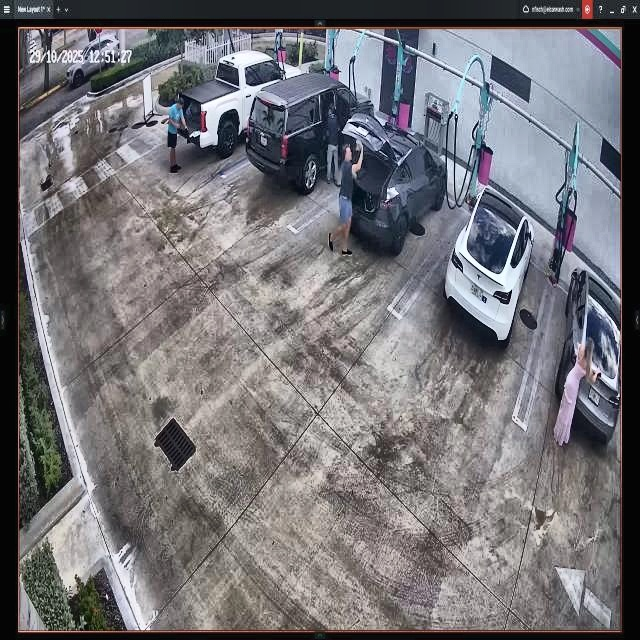Car: (245, 70, 374, 186), (444, 188, 536, 350), (342, 110, 447, 246), (176, 52, 304, 163)
